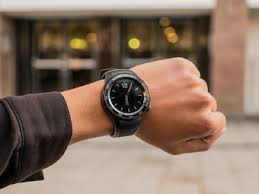clock: (109, 76, 145, 116)
